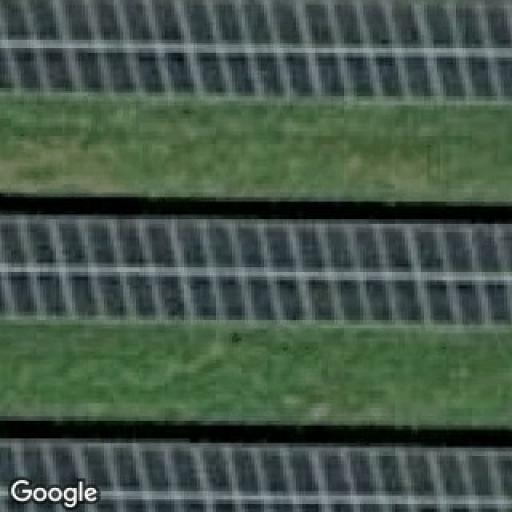solar-panel: (0, 221, 512, 333), (3, 0, 512, 107), (0, 437, 512, 512)
